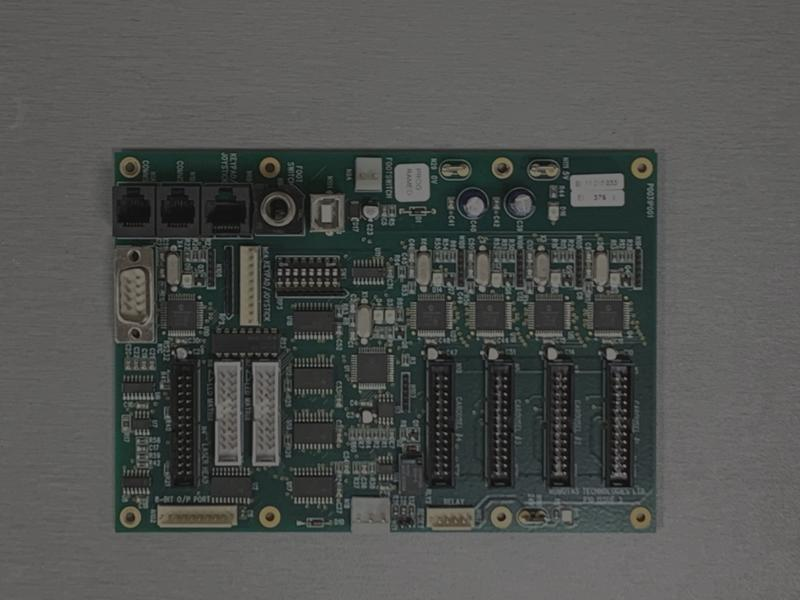Capacitor: (504, 187, 537, 221), (457, 188, 490, 221)
Diode: (307, 517, 324, 529), (409, 208, 428, 216)
